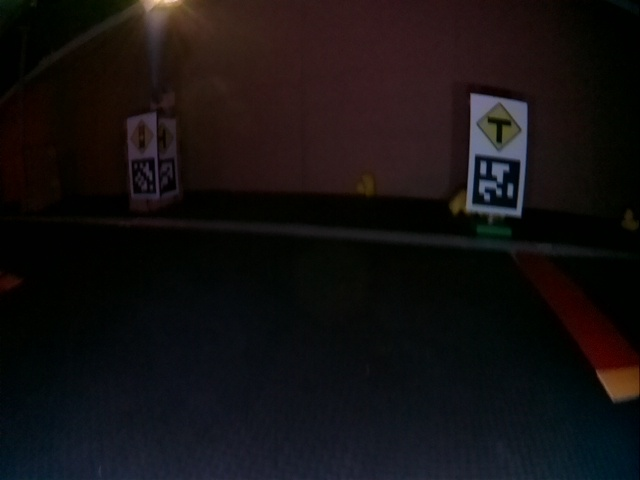Duckie: (449, 190, 468, 217), (358, 175, 376, 197), (623, 209, 638, 230)
Intersection sign: (475, 99, 525, 152), (158, 123, 174, 153)
QR code: (471, 156, 522, 211), (130, 161, 152, 193), (159, 157, 178, 193)
Signal sign: (129, 121, 155, 154)
